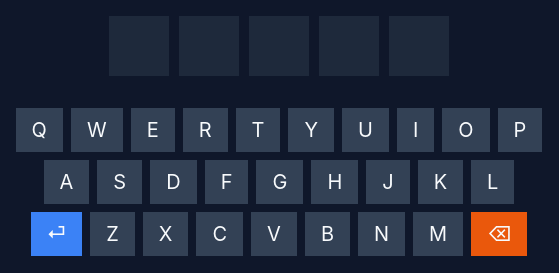
it: Game Component › Should win the game and show winning text
Click the button "a". click: coordinates (66, 182)
box: [44,160,89,204]
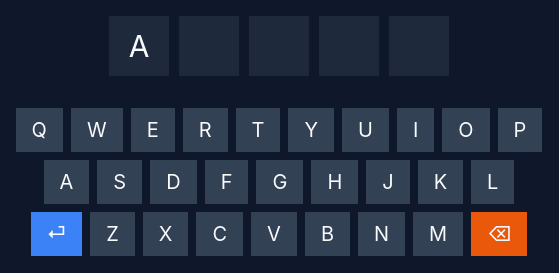
Click the button "l". click: coordinates (493, 182)
box: [471,160,514,204]
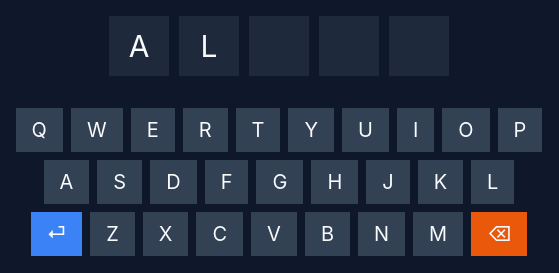
Click the button "e". click: coordinates (153, 130)
box: [131,108,175,152]
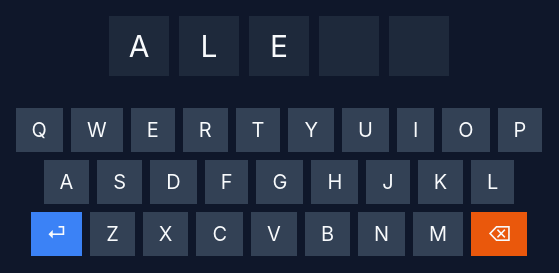
Click the button "r". click: coordinates (205, 130)
box: [183,108,228,152]
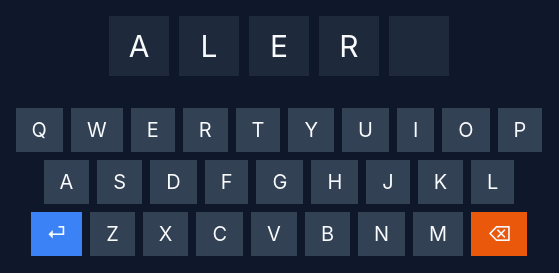
Click the button "t". click: coordinates (258, 130)
box: [236,108,280,152]
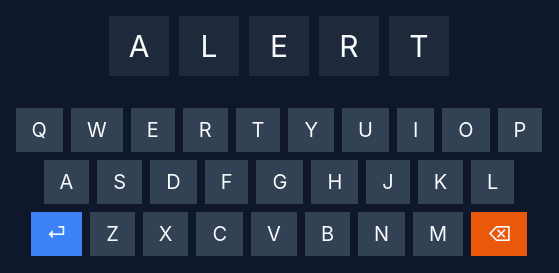
Click the button titled "ENTER". click: coordinates (56, 234)
box: [30,212,82,256]
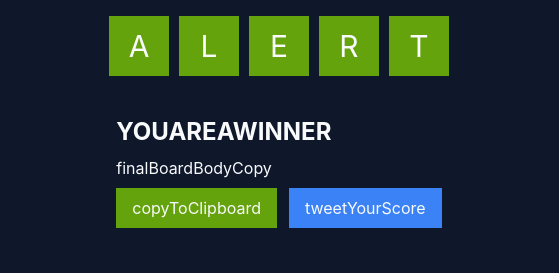
Expected: the number of elements titled "playerGuess" is 1, [109,16,449,76]
Expected: the number of headings "youAreaWinner" is 1, [116,117,331,146]
